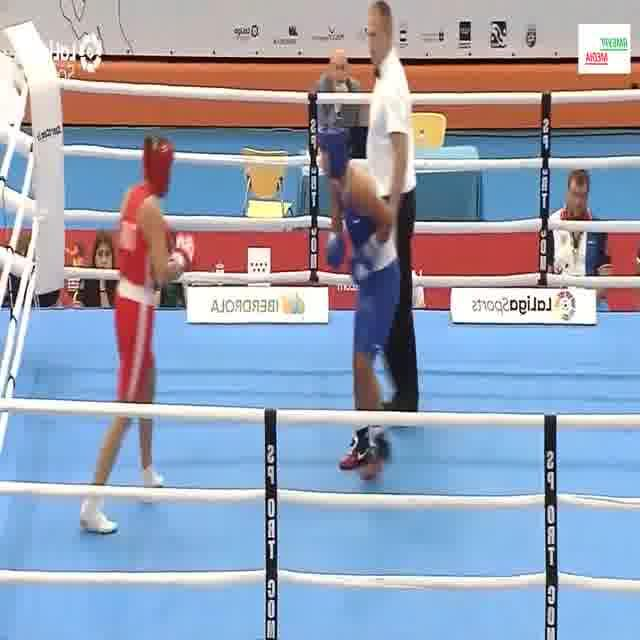blue-player: (318, 116, 401, 486)
red-player: (78, 134, 203, 536)
referee: (360, 0, 426, 433)
